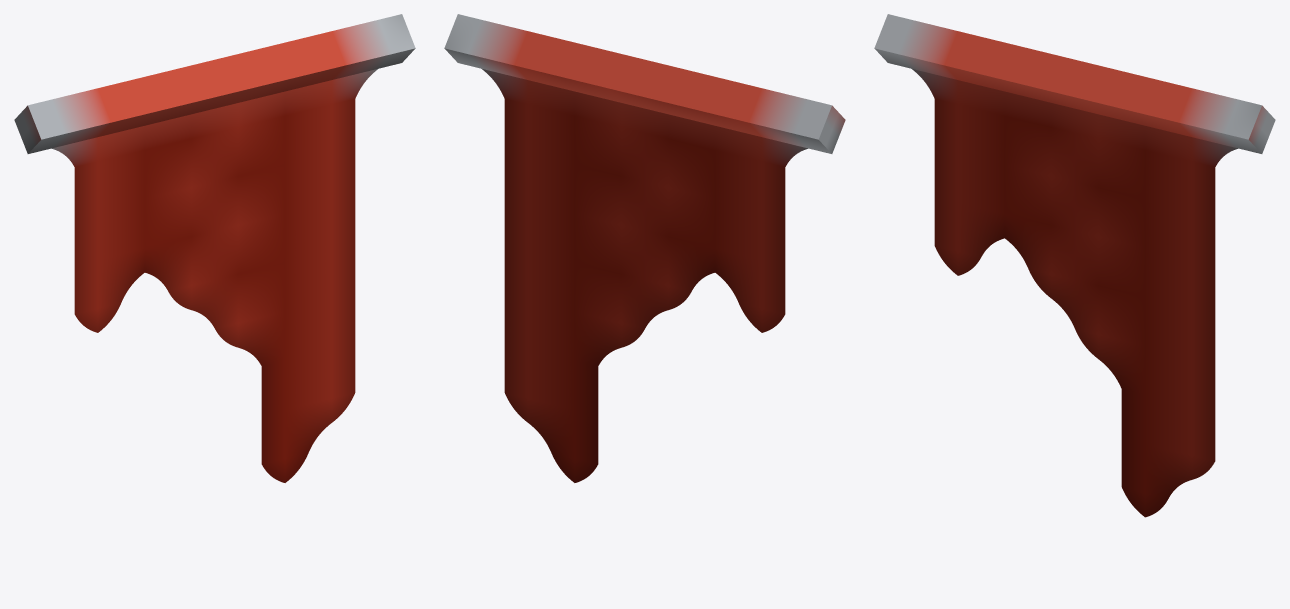
File: banner_a.obj
3 renders of one model, left to right at view 1: azimuth 30°, elevation 25°; view 2: azimuth 150°, elevation 25°; view 3: azimuth 330°, elevation 25°, orthographic.
Visible parts, largest first — view 1: Default; view 2: Default; view 3: Default.
Part boxes in pixels (x1=…): Default: x1=14, y1=14, x2=415, y2=482; Default: x1=444, y1=14, x2=845, y2=482; Default: x1=874, y1=14, x2=1275, y2=517.
Size of the model in its own units: 1 by 1.25 by 0.125.
